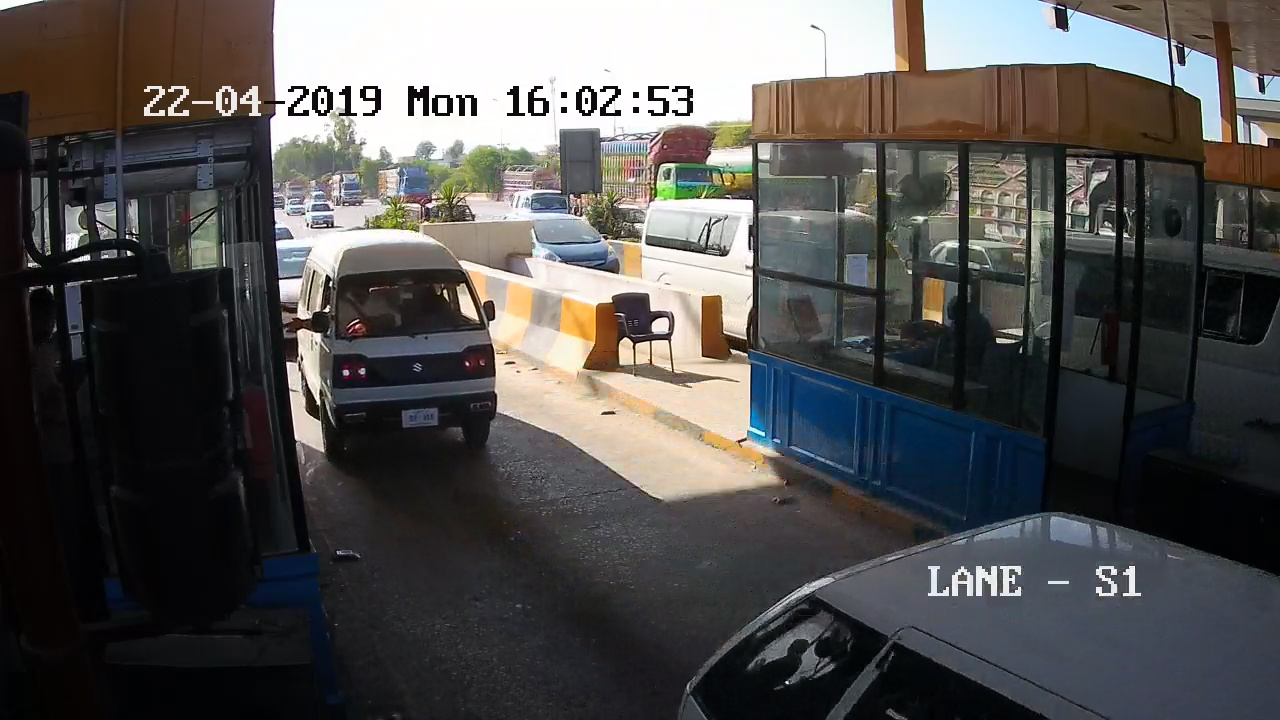car: (295, 244, 512, 465)
